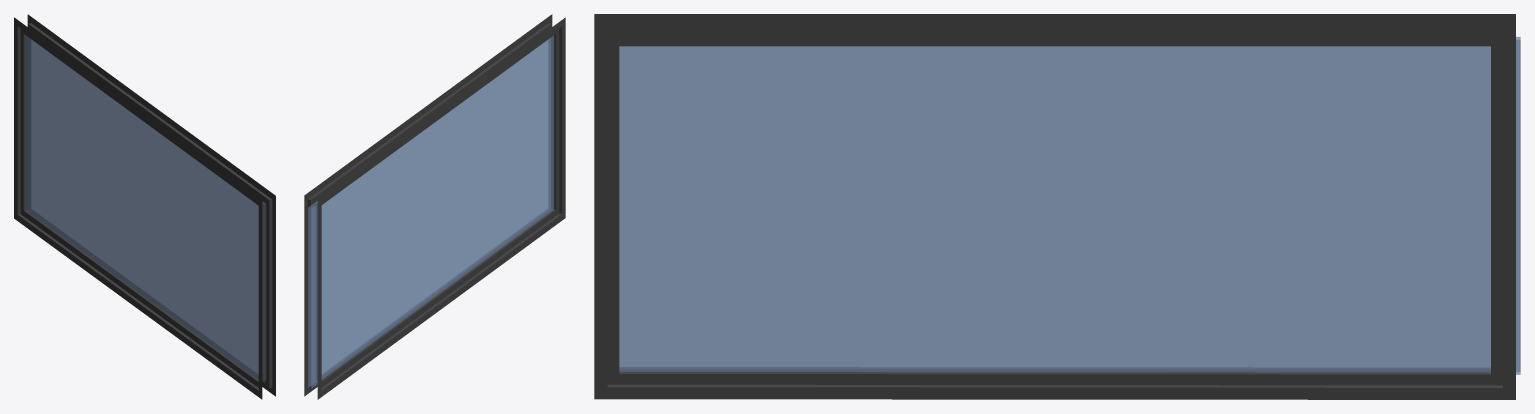
Rendered from okno.fbx.
3 views of the same model, side by side, from view 1: azimuth 30°, elevation 25°; view 2: azimuth 150°, elevation 25°; view 3: azimuth 270°, elevation 25° (orthographic). The views are drawn at different scales.
Parts seen in each view (by area): view 1: okno; view 2: okno; view 3: okno.
Boxes of the visible parts, left/top/right/bottom form: okno: left=14, top=14, right=275, bottom=399; okno: left=304, top=14, right=565, bottom=399; okno: left=594, top=14, right=1520, bottom=399.
Size of the model in its own units: 10.82 by 155 by 349.
